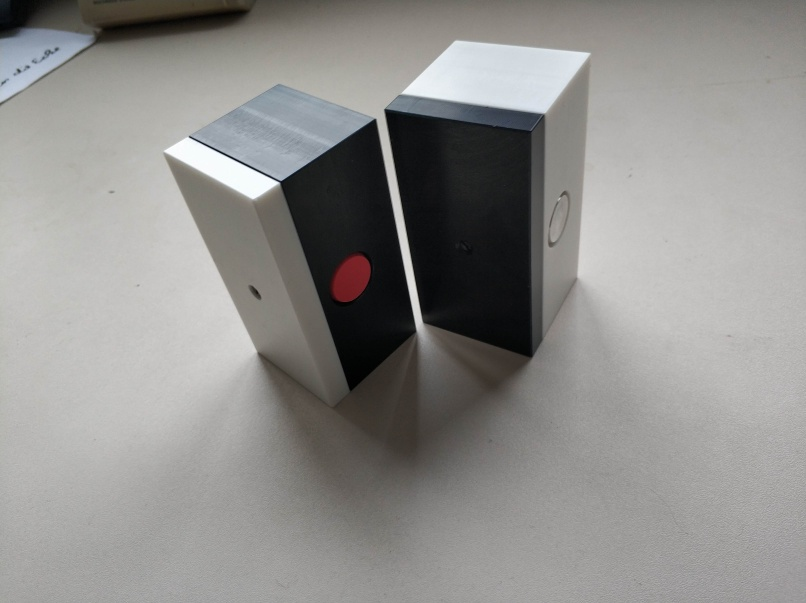black+white+silver: (383, 38, 594, 361)
white+black+red: (161, 81, 420, 412)
